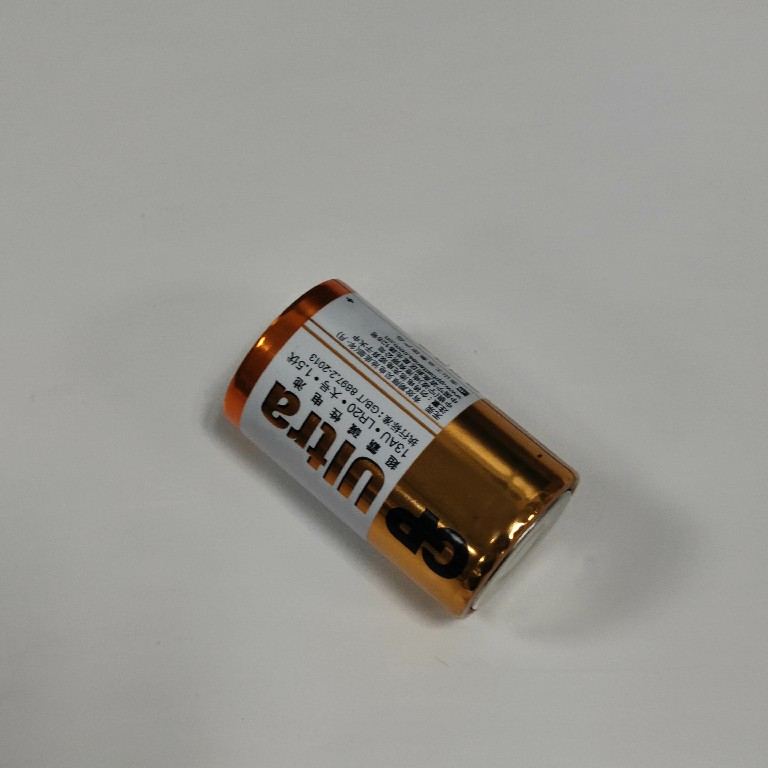charge: (218, 274, 582, 628)
